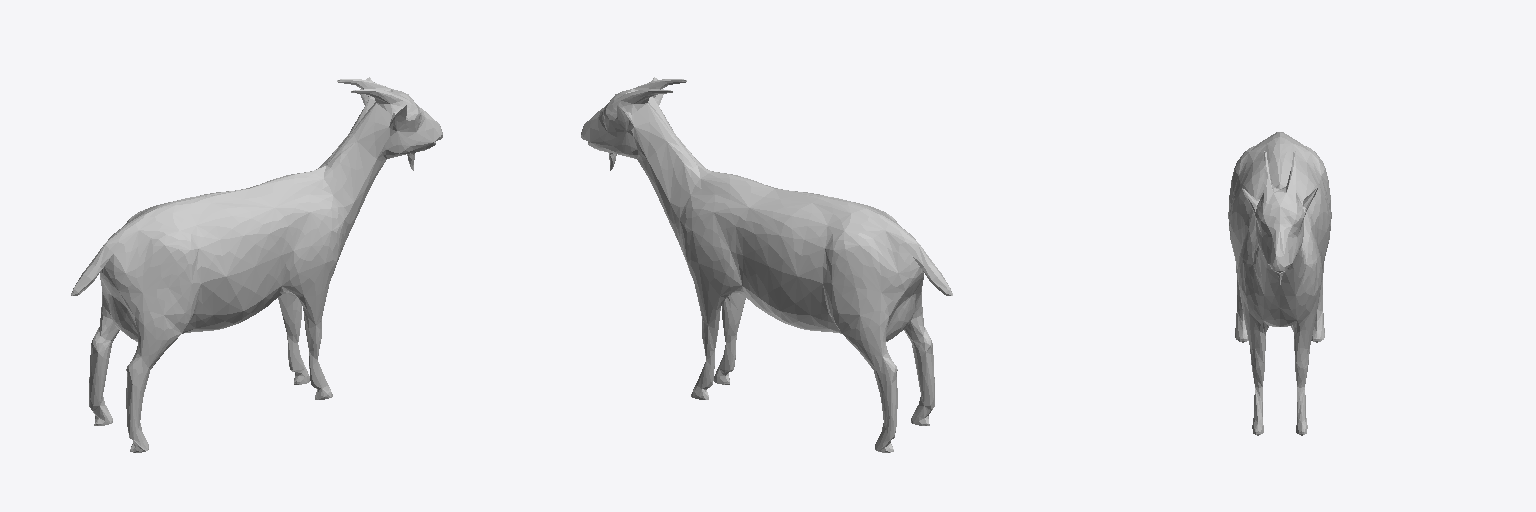
Rendered from Goat-bl.obj.
3 renders of one model, left to right at view 1: azimuth 30°, elevation 25°; view 2: azimuth 150°, elevation 25°; view 3: azimuth 270°, elevation 25°, orthographic.
Parts seen in each view (by area): view 1: GoatFBX; view 2: GoatFBX; view 3: GoatFBX.
Boxes of the visible parts, x1,y1,x2,y2 form: GoatFBX: [71, 77, 442, 452]; GoatFBX: [581, 77, 952, 452]; GoatFBX: [1228, 132, 1331, 435].
Size of the model in its own units: 9.44 by 7.24 by 2.27.